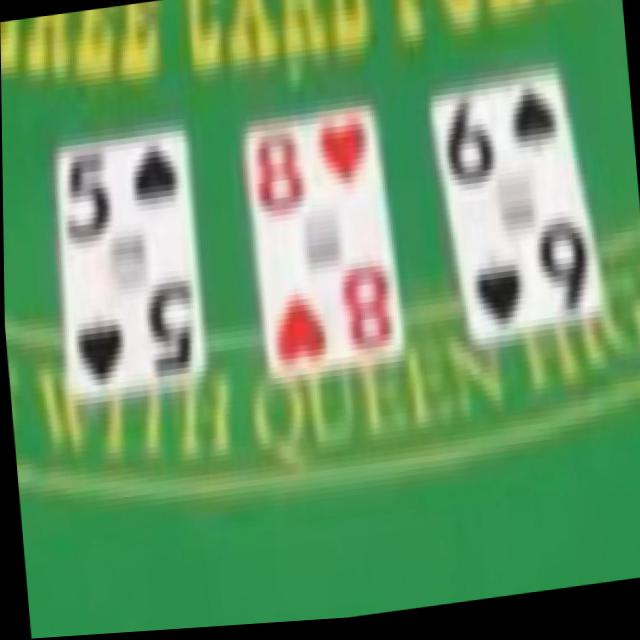Card-5: (57, 130, 203, 397)
Card-6: (432, 71, 600, 345)
Card-8: (246, 109, 402, 383)
